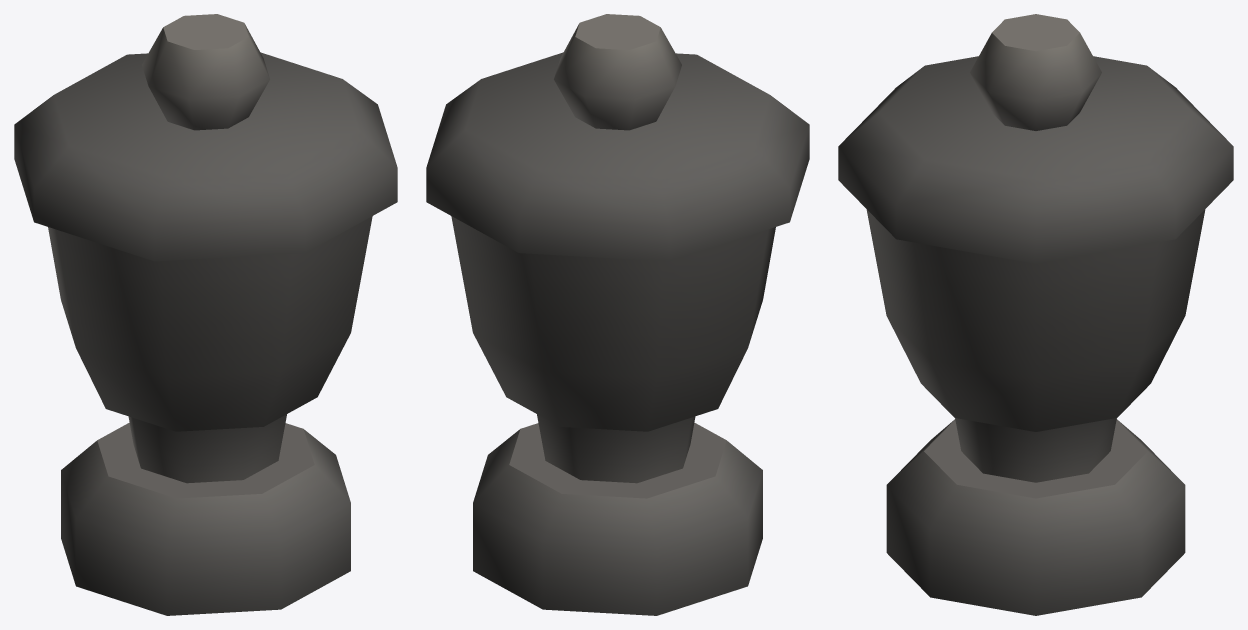
File: urn-round.glb
3 renders of one model, left to right at view 1: azimuth 30°, elevation 25°; view 2: azimuth 150°, elevation 25°; view 3: azimuth 270°, elevation 25°, orthographic.
Visible parts, largest first — view 1: urn-round, lid; view 2: urn-round, lid; view 3: urn-round, lid.
Part boxes in pixels (x1=…): urn-round: x1=48, y1=216, x2=372, y2=615; lid: x1=14, y1=14, x2=397, y2=261; urn-round: x1=451, y1=216, x2=775, y2=615; lid: x1=426, y1=14, x2=809, y2=261; urn-round: x1=866, y1=209, x2=1205, y2=615; lid: x1=838, y1=14, x2=1233, y2=263.
Size of the model in its own units: 0.2644 by 0.384 by 0.2644.
1 material, 1 textured.
